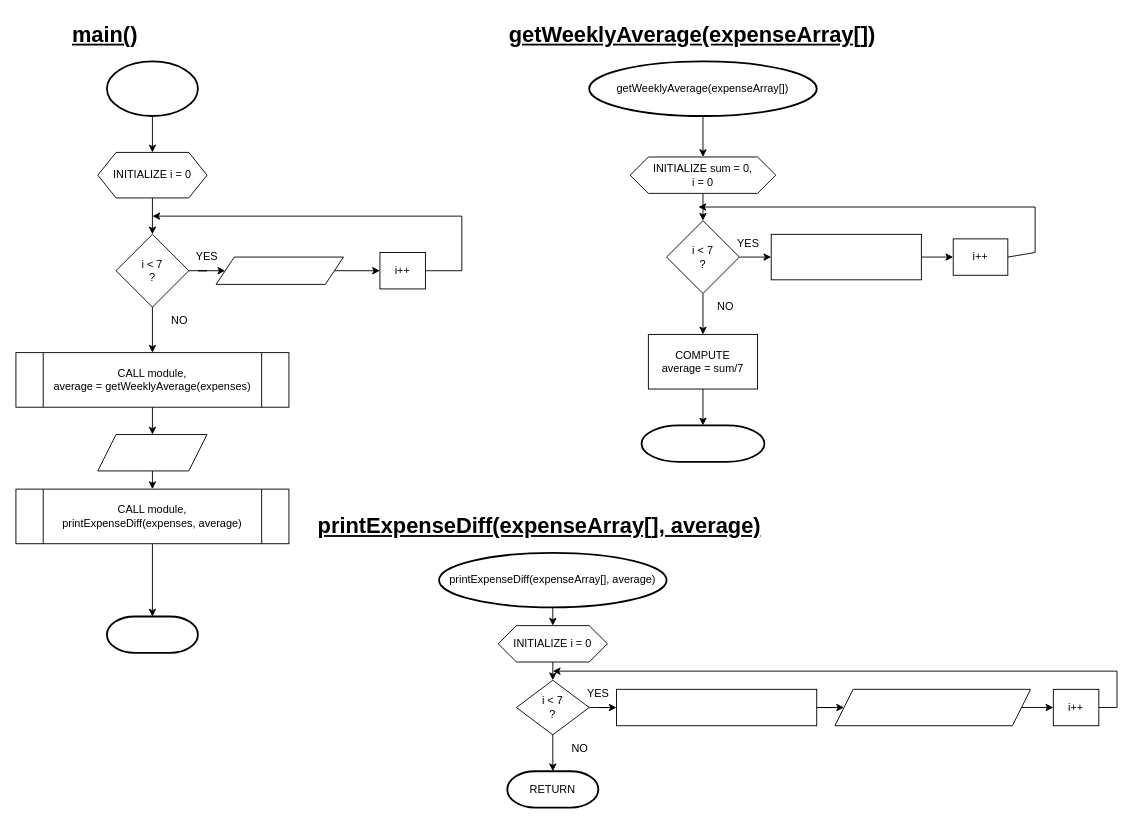
Some shapes in this 1140 by 824 pixel diagram are drawn without their labels. The shapes that lost their labels are listed below. From the top down, each one's box as (x1, y1, x2, y2) in pixels, then its label:
(106, 60, 198, 116): START
(215, 256, 344, 284): GET expenses[i]
(770, 233, 921, 280): COMPUTE sum += expenseArray[i]
(97, 434, 207, 471): DISPLAY average
(640, 424, 765, 462): RETURN average
(106, 615, 198, 653): STOP
(616, 688, 817, 726): COMPUTE difference = expenseArray[i] - average
(834, 688, 1031, 726): DISPLAY i+1, expenseArray[i], difference
